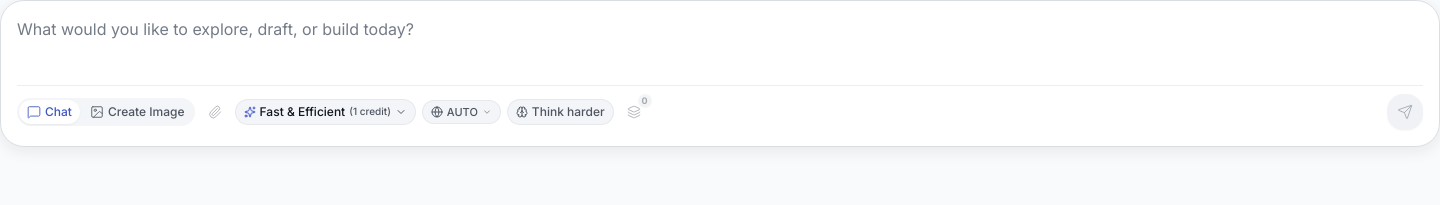
Step 3.6 — Composer and Smooth Blank -> Workspace Transition › Blank -> Workspace Smooth Transition › retains prompt and shows Retry alert if workspace creation fails
In the text box named "How can Klecx help you today": (720, 49) x1=17 y1=17 x2=1423 y2=81, type "Valuable prompt that must not be lost"
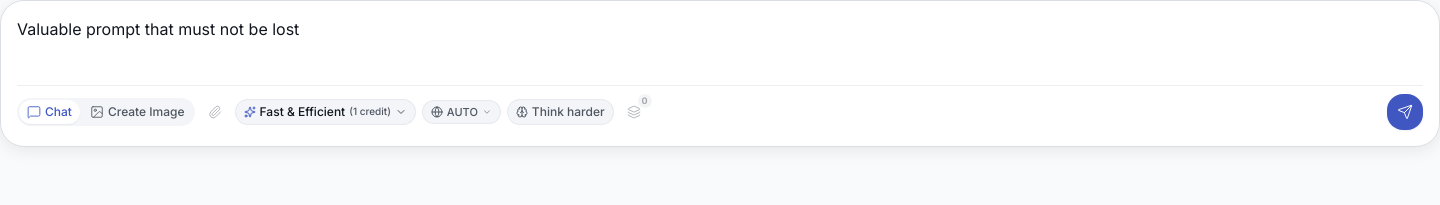
Click the button named "Send": click(1405, 112) x1=1387 y1=94 x2=1423 y2=130
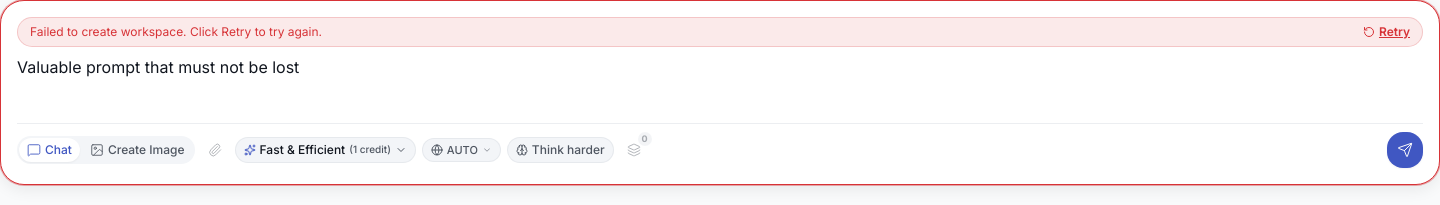
Now the message "Failed to create workspace. Click Retry to try again. Retry" is shown, box x1=17 y1=17 x2=1423 y2=47
Now the text "Failed to create workspace. Click Retry to try again." is shown, box x1=30 y1=24 x2=322 y2=40
